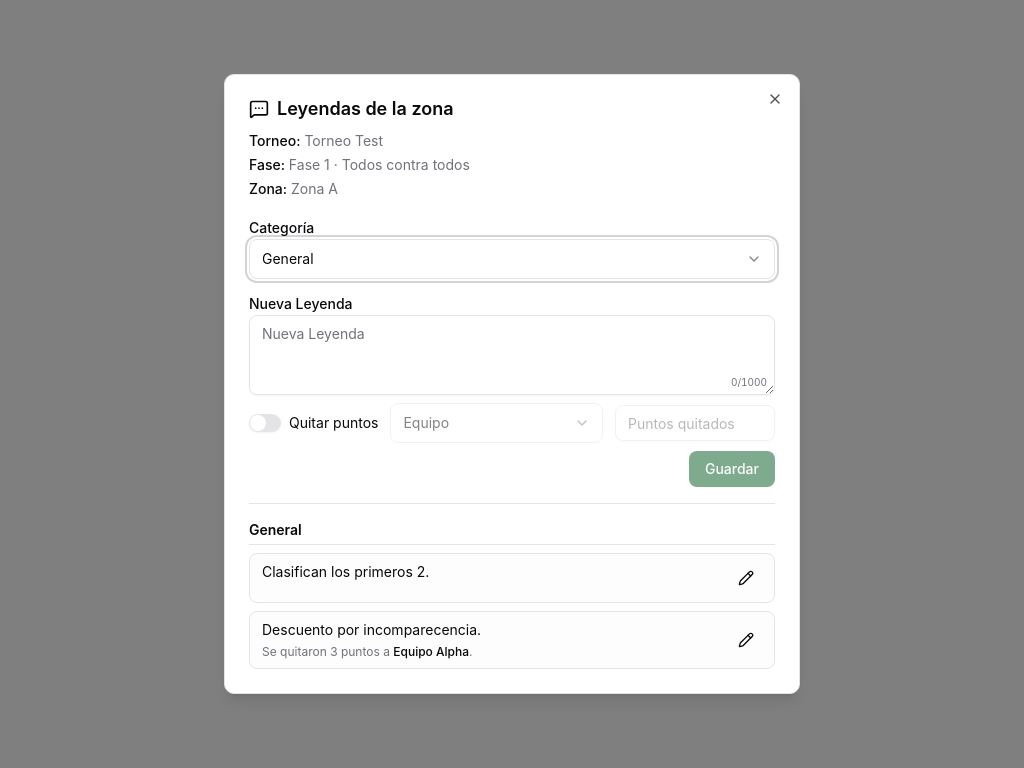
it: ModalZonaLeyendas — editar leyenda › clickear "Editar leyenda" precarga el formulario y cambia el título/botón
What coordinates should you click on to do the following:
click the button named "Editar leyenda" in the row of "Descuento por incomparecencia."
I would click on:
 (746, 640)
Its box is [730,624,762,656].
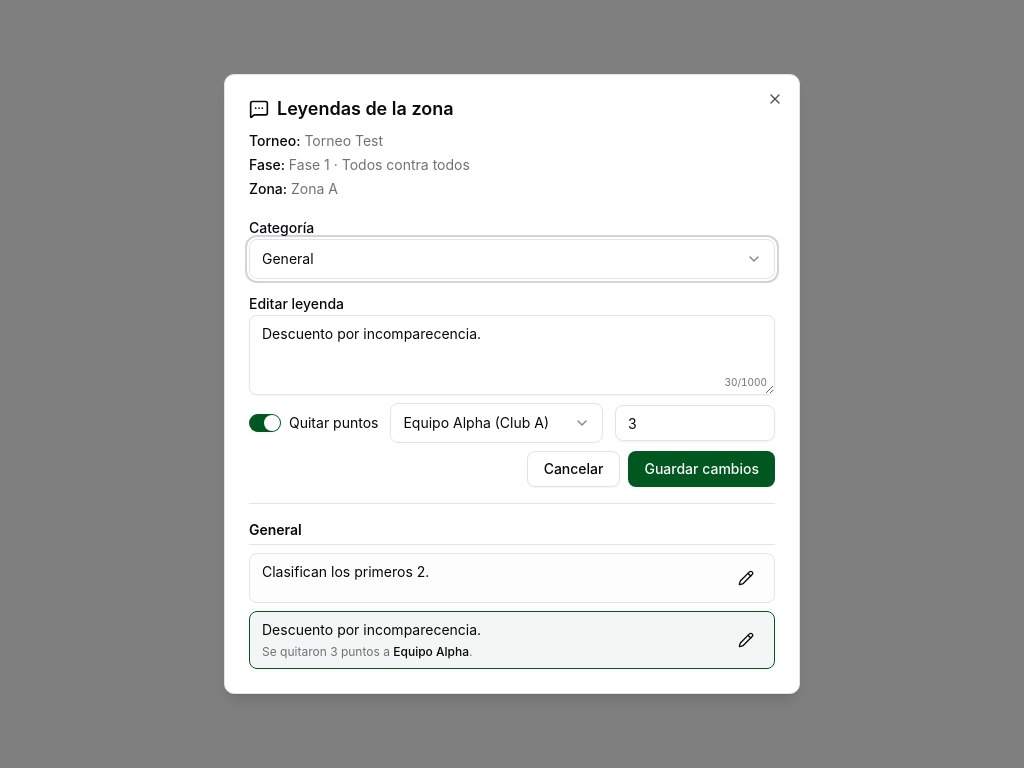
Now the text "Editar leyenda" is shown, box [249,295,344,312]
Now the text box with placeholder "Nueva Leyenda" holds "Descuento por incomparecencia.", box [249,315,775,395]
Now the button "Guardar cambios" is shown, box [628,451,775,487]
